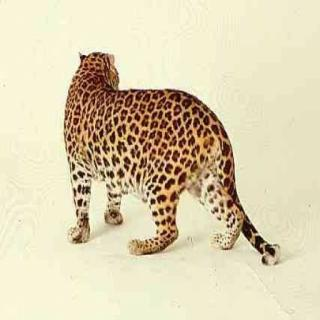Leopard: (45, 39, 296, 277)
